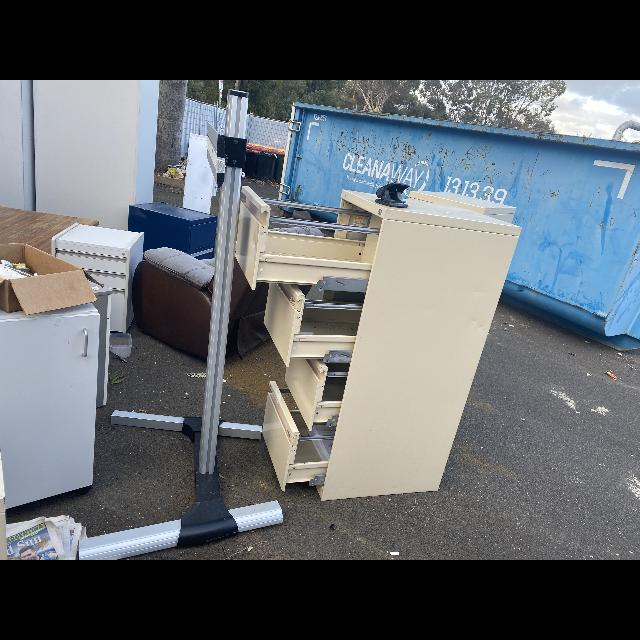Aluminium: (199, 167, 242, 474), (79, 520, 181, 560), (183, 133, 217, 213), (229, 500, 283, 532), (111, 410, 183, 431), (224, 95, 249, 138), (219, 421, 262, 440), (207, 149, 217, 186), (207, 122, 218, 153)
Ferrous Metal: (235, 186, 522, 502), (281, 103, 640, 348), (128, 202, 217, 259), (222, 135, 247, 168)
